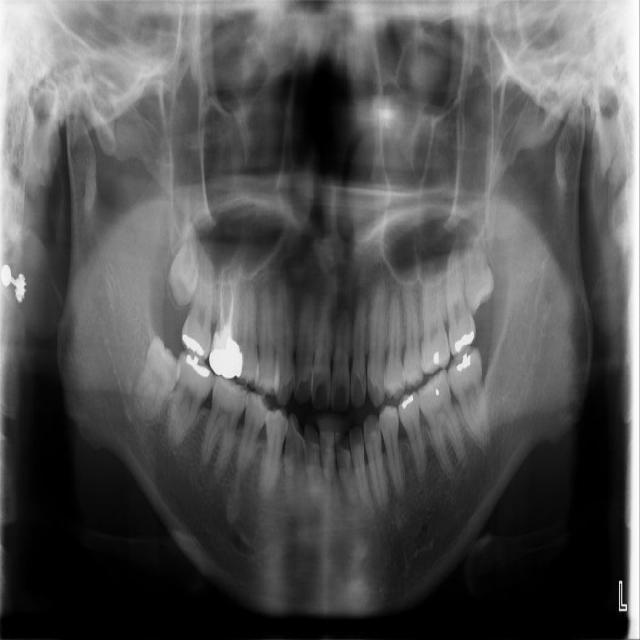3M ESPE Implant: (166, 220, 204, 308)
52: (433, 339, 496, 401), (164, 345, 225, 402), (406, 366, 466, 423), (412, 327, 457, 376), (205, 338, 247, 382), (180, 308, 212, 365), (446, 312, 479, 360), (395, 391, 423, 430)
73: (212, 260, 247, 346), (596, 588, 602, 608)
BioHorizons Implant: (441, 246, 478, 360)
BioLife Implant: (452, 216, 500, 319)
Blue Sky Bio Implant: (443, 343, 493, 452)
Caries: (180, 228, 218, 365)
Implant: (165, 348, 218, 451)
Keystone Dental Implant: (123, 333, 190, 431)
